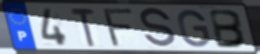4: (39, 7, 69, 48)
B: (208, 8, 249, 49)
F: (102, 7, 137, 48)
G: (177, 9, 212, 49)
S: (138, 7, 177, 51)
T: (68, 7, 98, 48)
